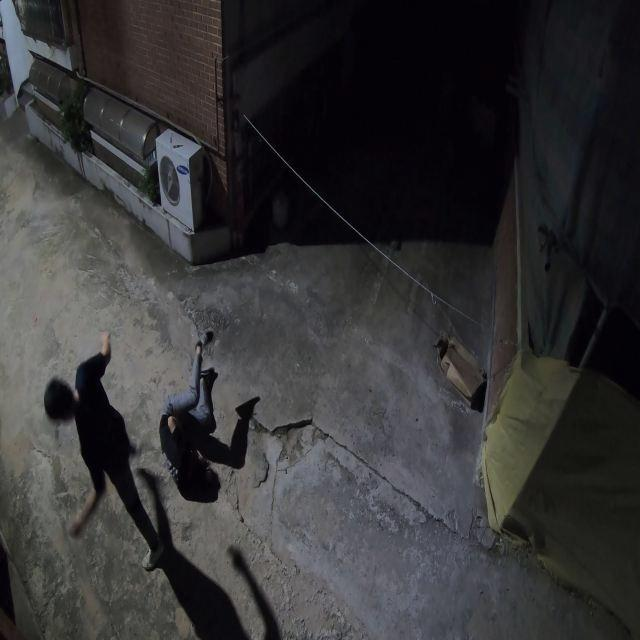fight: (38, 323, 218, 570)
